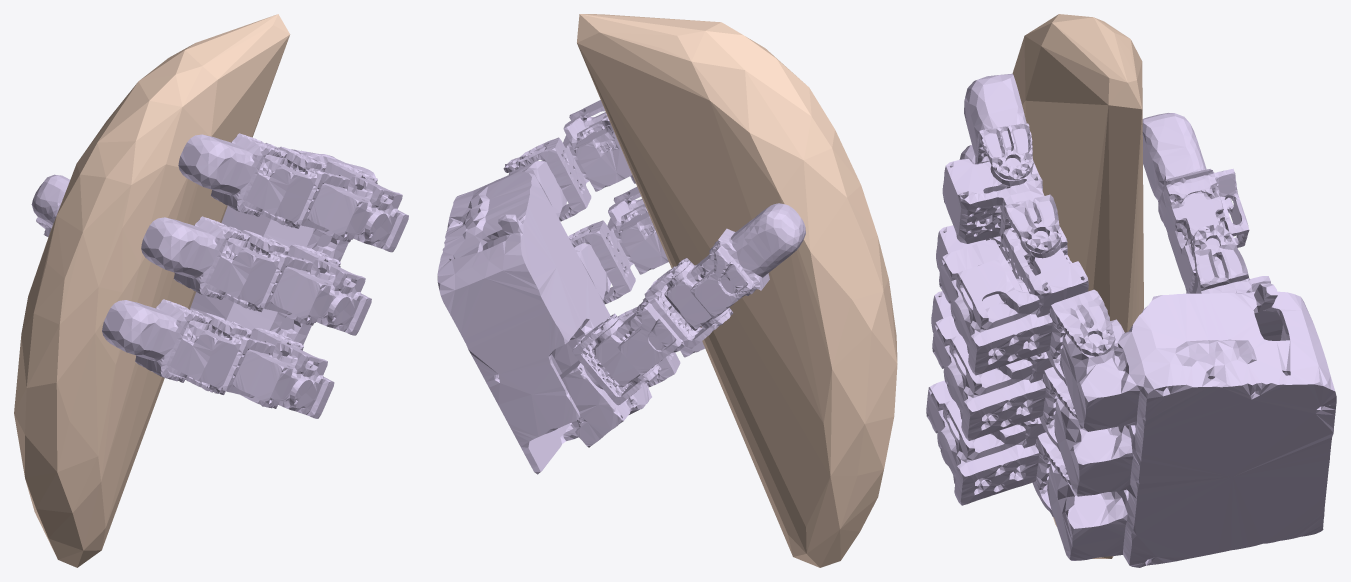
Rendered from 769d5c12b6ae1e-closed.glb.
3 views of the same model, side by side, from view 1: azimuth 30°, elevation 25°; view 2: azimuth 150°, elevation 25°; view 3: azimuth 270°, elevation 25° (orthographic). The views are drawn at different scales.
Visible parts, largest first — view 1: world, LEAP_hand; view 2: world, LEAP_hand; view 3: LEAP_hand, world.
Part boxes in pixels (bbox=[...]): world: bbox=[14, 14, 290, 567]; LEAP_hand: bbox=[31, 133, 408, 418]; world: bbox=[577, 14, 897, 567]; LEAP_hand: bbox=[437, 100, 805, 474]; LEAP_hand: bbox=[926, 73, 1336, 567]; world: bbox=[1012, 14, 1143, 558].
Bounding box in the file's own units: 0.22 × 0.2662 × 0.1622.
